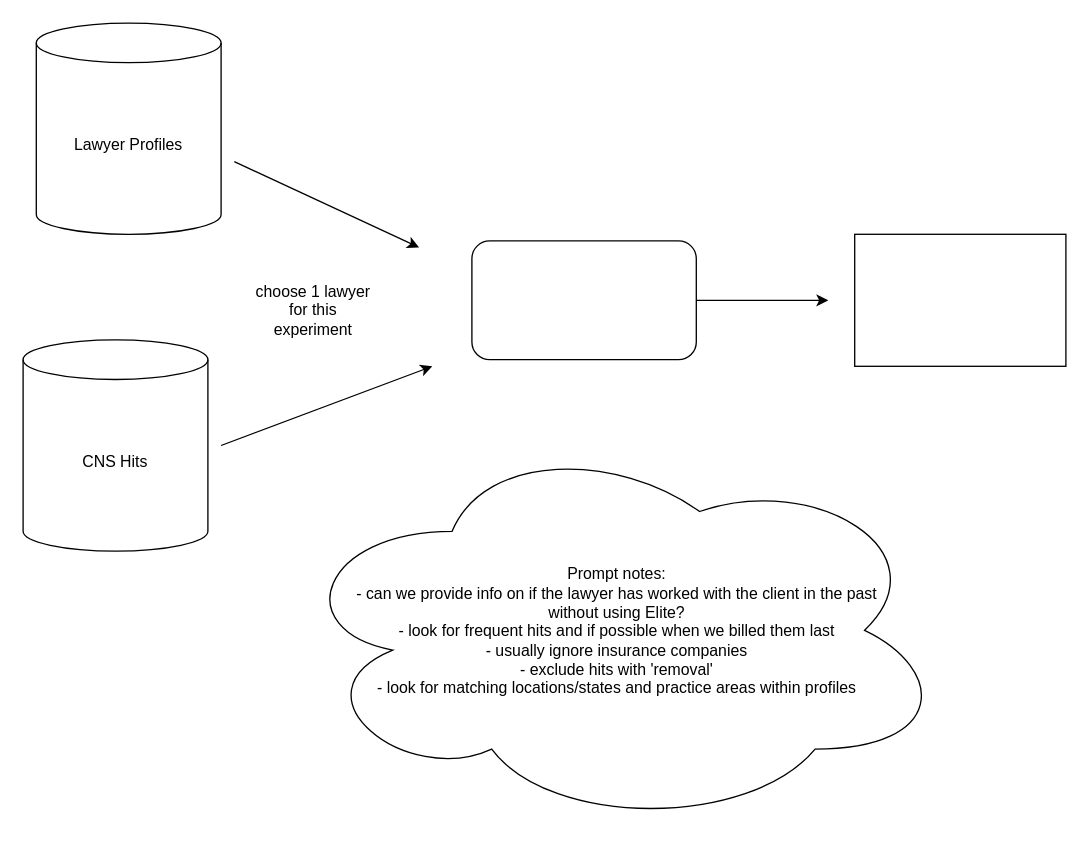
The diagram is 1089 pixels wide and 851 high, and some of its shapes have lost their labels. The shapes that lost their labels are listed below. From the top down, each one's centre as x and y in pixels, then its label:
the point at 583,300: GPT Compare Single Lawyer Profile Against CNS Hits for Single Lawyer
the point at 959,299: Hits ranked to be reviewed by lawyer
